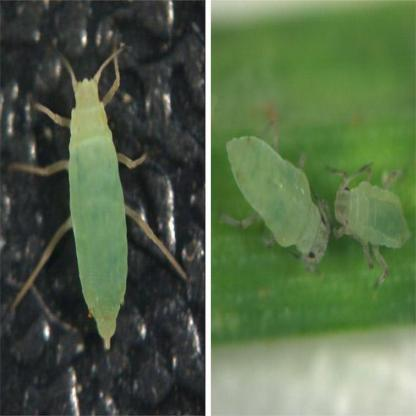aphid: (11, 44, 189, 354), (216, 109, 332, 284), (326, 151, 413, 291)
